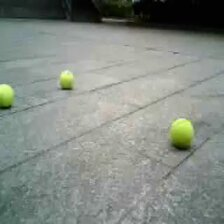tennis: (168, 117, 194, 148), (1, 84, 15, 109), (58, 70, 75, 87)
